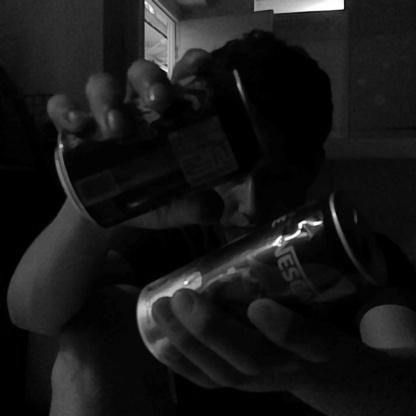alumunium_can: (136, 185, 386, 374), (56, 69, 260, 230)
